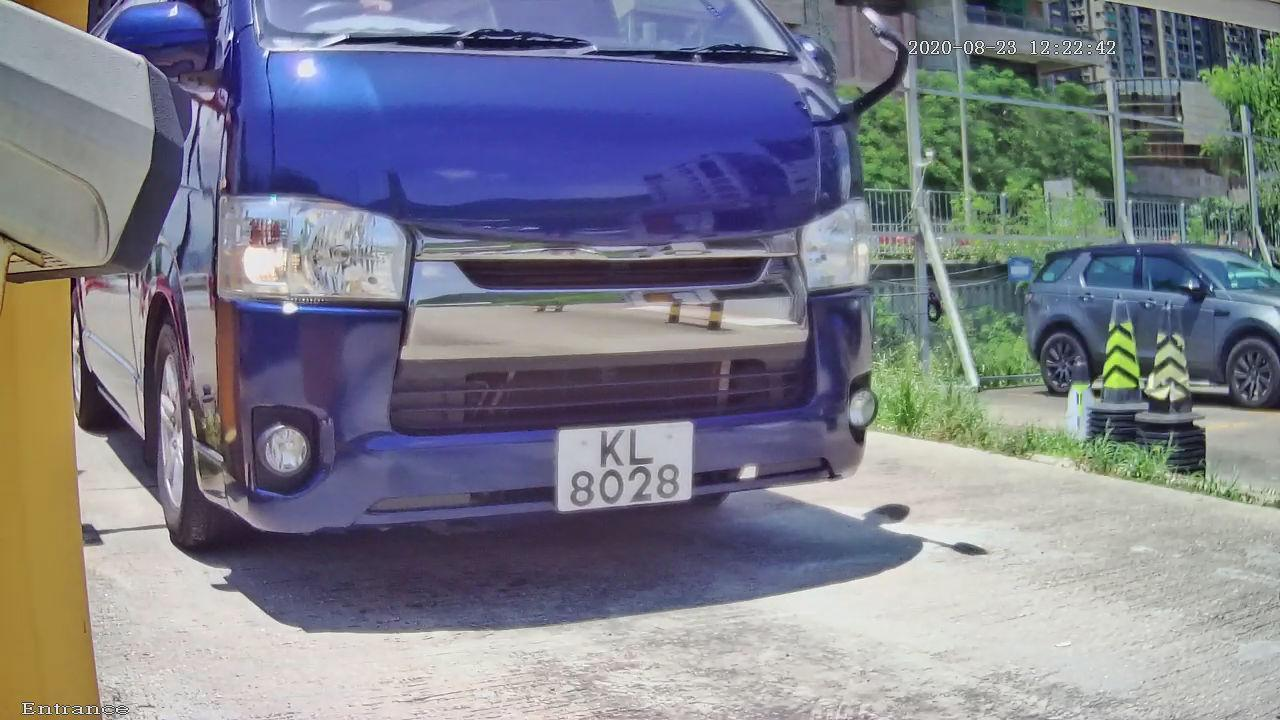Car: (41, 7, 949, 631)
License Plate: (543, 418, 698, 518)
